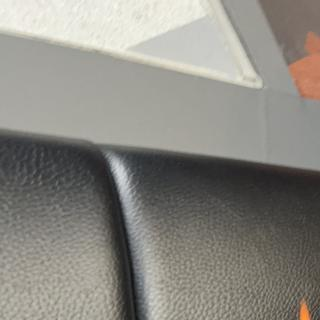fire: (299, 299, 313, 320)
